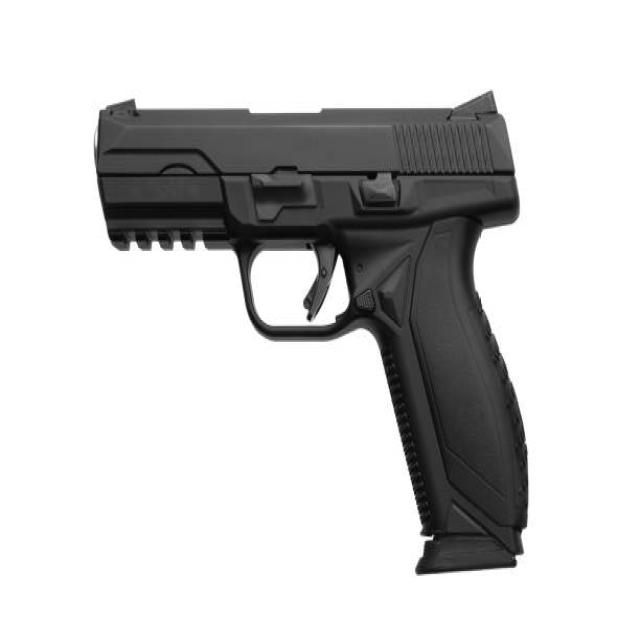pistol: (91, 85, 535, 581)
